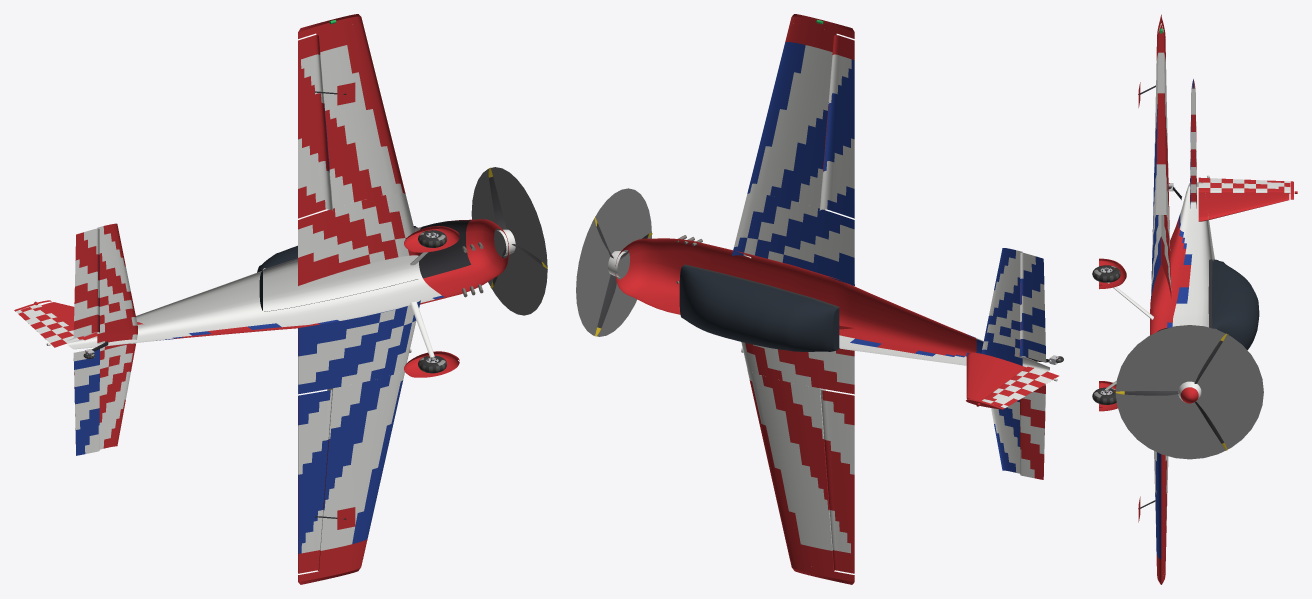
The model's file is exterior.glb.
3 renders of one model, left to right at view 1: azimuth 30°, elevation 25°; view 2: azimuth 150°, elevation 25°; view 3: azimuth 270°, elevation 25°, orthographic. The views are drawn at different scales.
Parts seen in each view (by area): view 1: airframe, fuselage, propeller_disc, aileron_right, aileron_left, elevator, cowling, rudder, fork_right, fork_left; view 2: airframe, fuselage, propeller_disc, aileron_right, aileron_left, elevator, cowling, rudder, propeller; view 3: propeller_disc, fuselage, airframe, rudder, propeller, cowling, wheel_right, fork_right, wheel_left.
Part boxes in pixels (x1,y1,x2,y2): airframe: (41,14,420,584); fuselage: (67,226,446,349); propeller_disc: (471,167,547,315); aileron_right: (298,35,355,218); aileron_left: (298,389,355,573); elevator: (73,228,99,455); cowling: (419,219,515,297); rudder: (14,300,86,347); fork_right: (404,226,459,252); fork_left: (404,351,459,377); airframe: (732,14,1026,584); fuselage: (679,244,1049,371); propeller_disc: (576,188,651,336); aileron_right: (819,35,854,218); aileron_left: (820,389,854,573); elevator: (1019,252,1046,479); cowling: (608,235,710,314); rudder: (966,366,1058,409); propeller: (594,216,652,336); propeller_disc: (1115,325,1263,459); fuselage: (1150,182,1259,349); airframe: (1151,14,1289,584); rudder: (1198,175,1297,199); propeller: (1115,333,1228,450); cowling: (1157,328,1201,403); wheel_right: (1092,265,1120,282); fork_right: (1099,258,1126,289); wheel_left: (1092,387,1116,404).
Size of the model in its own units: 7.01 by 8 by 2.74.
